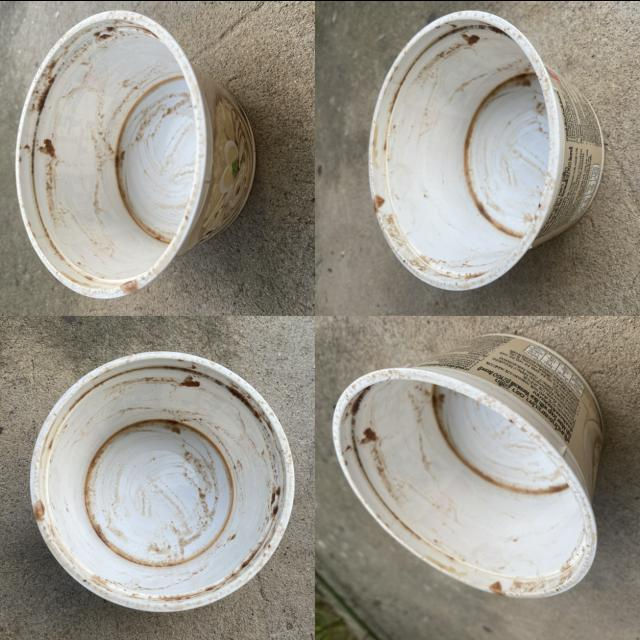plastik: (333, 333, 603, 596), (30, 351, 294, 611), (16, 10, 255, 297), (370, 10, 603, 289)
